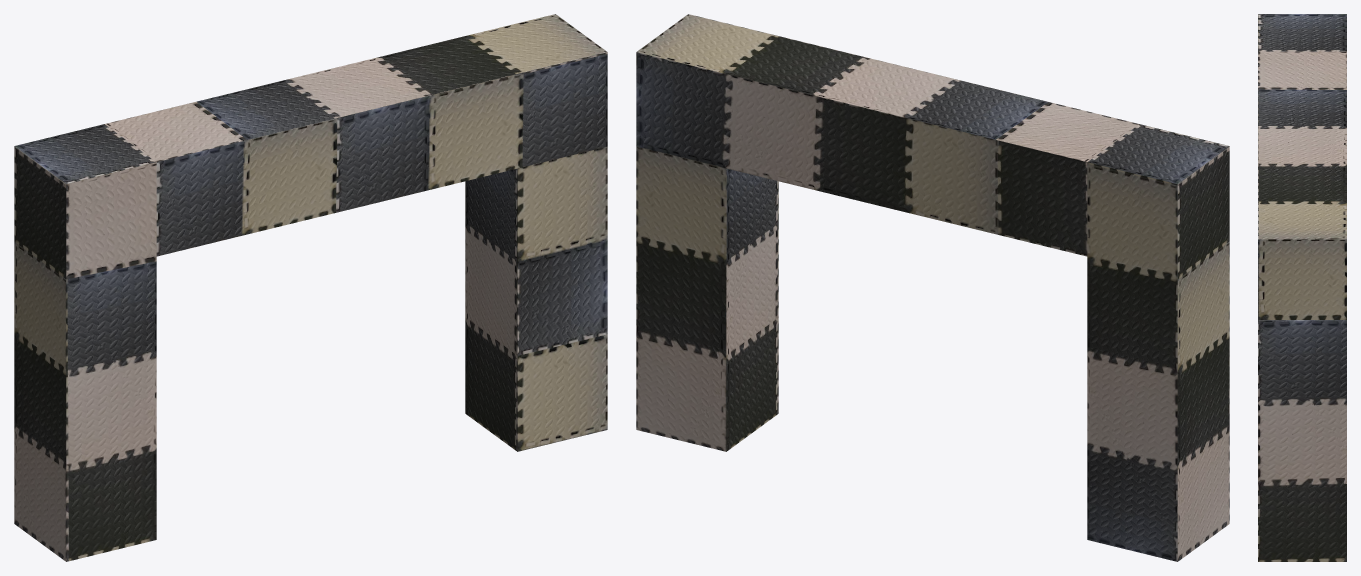
The model's file is 3x4ARCH.dae.
3 renders of one model, left to right at view 1: azimuth 30°, elevation 25°; view 2: azimuth 150°, elevation 25°; view 3: azimuth 270°, elevation 25°, orthographic. The views are drawn at different scales.
Visible parts, largest first — view 1: Cube; view 2: Cube; view 3: Cube.
Boxes of the visible parts, x1,y1,x2,y2 form: Cube: (14, 14, 607, 561); Cube: (636, 14, 1229, 561); Cube: (1258, 14, 1346, 561).
Bounding box in the file's own units: 1.8 × 0.3 × 1.2.
1 material, 1 textured.
